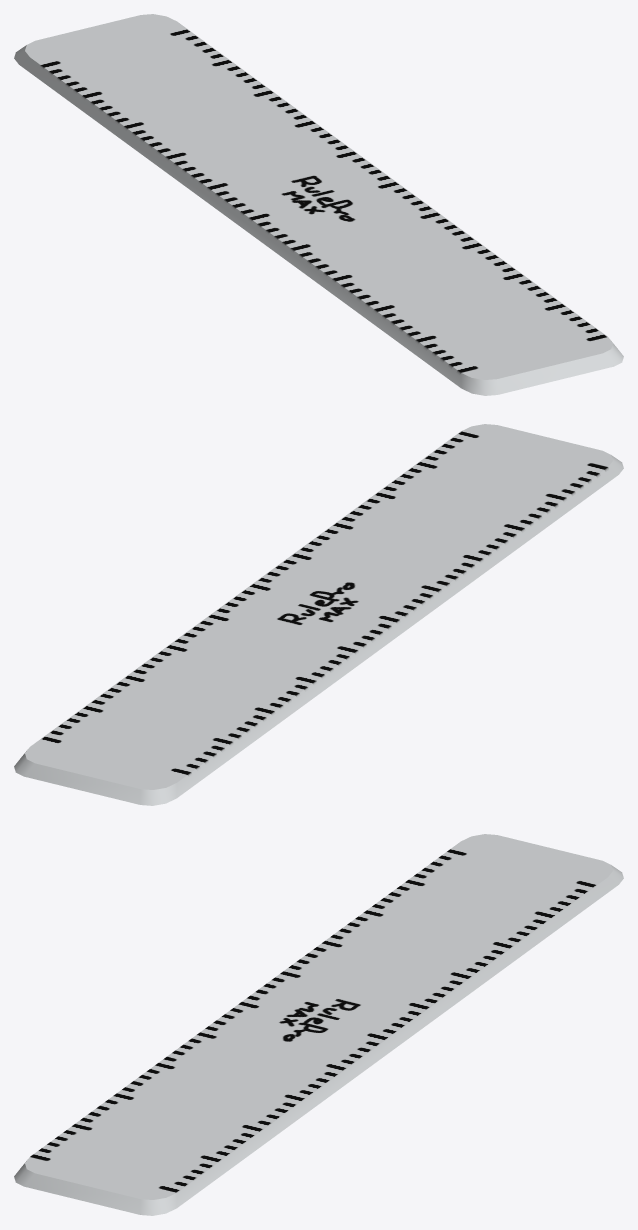
File: ruler.fbx
3 views of the same model, one above another, from view 1: azimuth 30°, elevation 25°; view 2: azimuth 150°, elevation 25°; view 3: azimuth 330°, elevation 25° (orthographic).
Parts seen in each view (by area): view 1: ruler; view 2: ruler; view 3: ruler.
Boxes of the visible parts, bbox=[...] form: ruler: bbox=[14, 14, 623, 395]; ruler: bbox=[14, 424, 623, 805]; ruler: bbox=[14, 834, 623, 1215].
Bounding box in the file's own units: 123 × 7.72 × 638.
Materials: 1 (1 with a texture image).
